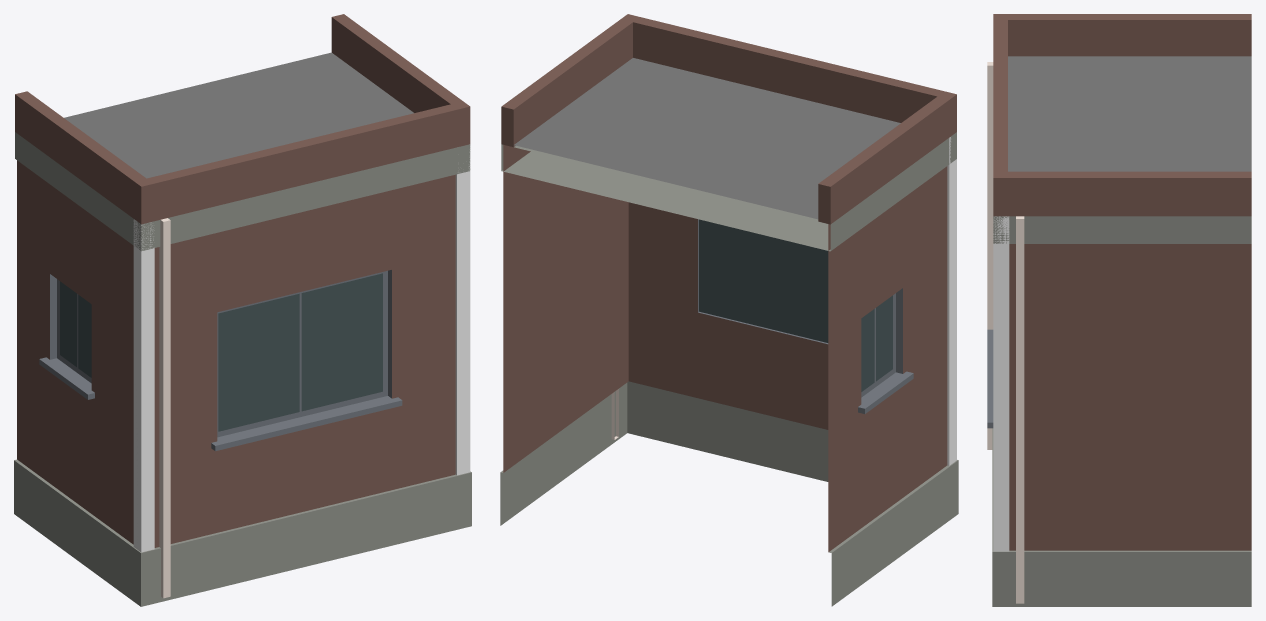
File: base-stair3.fbx
The picture shows the model from 3 angles, left to right: view 1: azimuth 30°, elevation 25°; view 2: azimuth 150°, elevation 25°; view 3: azimuth 270°, elevation 25°; orthographic projection. The views are drawn at different scales.
Visible parts, largest first — view 1: a2000s2/0/base-stair; view 2: a2000s2/0/base-stair; view 3: a2000s2/0/base-stair.
Boxes of the visible parts, x1,y1,x2,y2 form: a2000s2/0/base-stair: (14, 14, 471, 606); a2000s2/0/base-stair: (500, 14, 958, 606); a2000s2/0/base-stair: (987, 14, 1251, 606).
Size of the model in its own units: 3.3 by 3.9 by 2.18.
